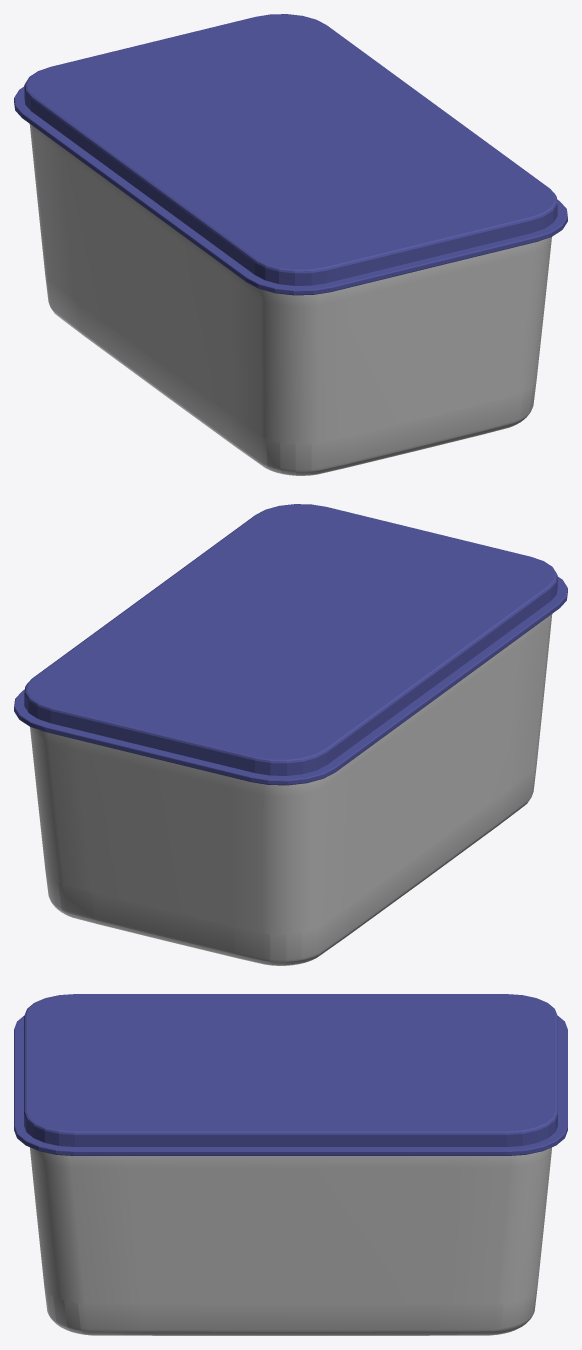
Rendered from GOW_Fridge_Prop_Container_01.fbx.
3 renders of one model, top to bottom at view 1: azimuth 30°, elevation 25°; view 2: azimuth 150°, elevation 25°; view 3: azimuth 270°, elevation 25°, orthographic. The views are drawn at different scales.
Parts seen in each view (by area): view 1: GOW_Fridge_Prop_ContainerTop_01, GOW_Fridge_Prop_ContainerBottom_01; view 2: GOW_Fridge_Prop_ContainerTop_01, GOW_Fridge_Prop_ContainerBottom_01; view 3: GOW_Fridge_Prop_ContainerBottom_01, GOW_Fridge_Prop_ContainerTop_01.
Part boxes in pixels (x1,y1,x2,y2): GOW_Fridge_Prop_ContainerTop_01: [14, 14, 567, 295]; GOW_Fridge_Prop_ContainerBottom_01: [29, 124, 551, 475]; GOW_Fridge_Prop_ContainerTop_01: [14, 504, 567, 785]; GOW_Fridge_Prop_ContainerBottom_01: [30, 614, 552, 965]; GOW_Fridge_Prop_ContainerBottom_01: [30, 1147, 551, 1335]; GOW_Fridge_Prop_ContainerTop_01: [14, 994, 567, 1155].
Bounding box in the file's own units: 11.71 × 7.94 × 18.53.
